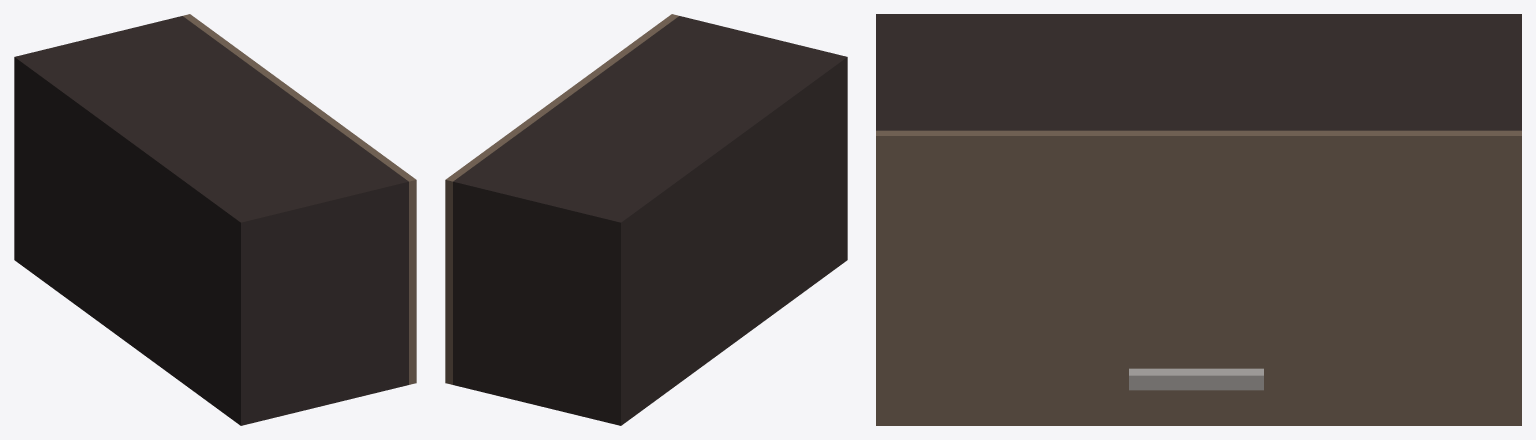
The model's file is Kitchen_Cabinet6.fbx.
The picture shows the model from 3 angles, left to right: view 1: azimuth 30°, elevation 25°; view 2: azimuth 150°, elevation 25°; view 3: azimuth 270°, elevation 25°; orthographic projection. The views are drawn at different scales.
Visible parts, largest first — view 1: Kitchen_Cabinet6; view 2: Kitchen_Cabinet6; view 3: Kitchen_Cabinet6.
Part boxes in pixels (x1,y1,x2,y2): Kitchen_Cabinet6: (14,14,416,425); Kitchen_Cabinet6: (445,14,847,425); Kitchen_Cabinet6: (876,14,1521,425).
Size of the model in its own units: 57.1 by 59.82 by 121.
